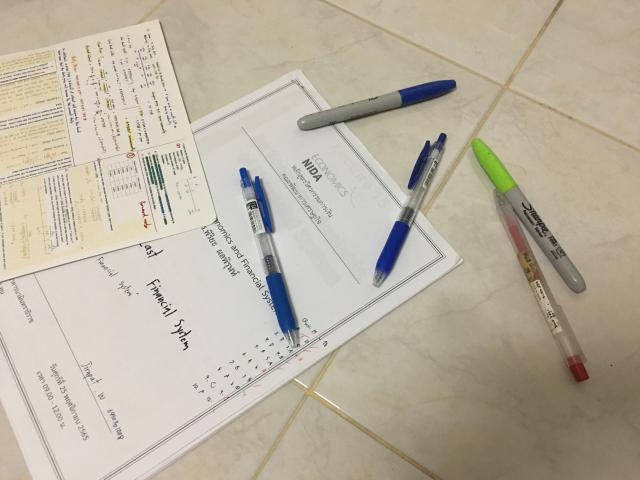Pen: (494, 190, 589, 381), (471, 139, 586, 292), (372, 132, 446, 286), (240, 168, 298, 348), (298, 80, 456, 130)
paper: (0, 70, 461, 479), (0, 20, 216, 281)
